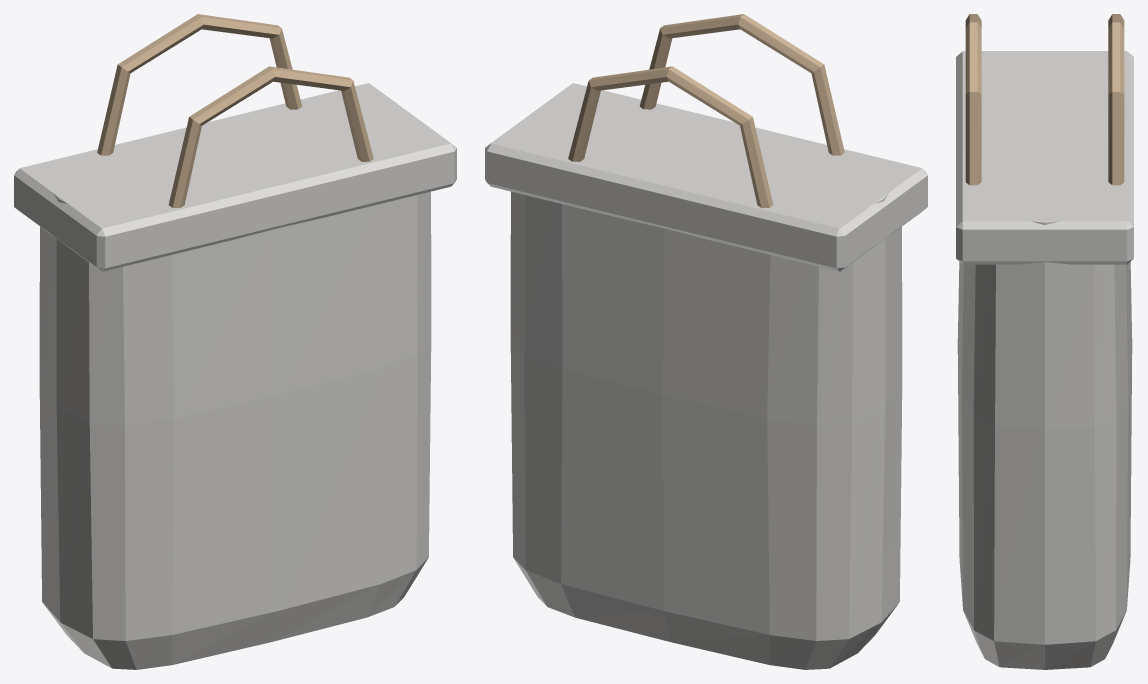
The picture shows the model from 3 angles, left to right: view 1: azimuth 30°, elevation 25°; view 2: azimuth 150°, elevation 25°; view 3: azimuth 270°, elevation 25°; orthographic projection.
Visible parts, largest first — view 1: shopping-bag-paper; view 2: shopping-bag-paper; view 3: shopping-bag-paper.
Boxes of the visible parts, x1,y1,x2,y2 form: shopping-bag-paper: [14, 14, 456, 669]; shopping-bag-paper: [485, 14, 927, 669]; shopping-bag-paper: [956, 14, 1133, 669].
Bounding box in the file's own units: 0.262 × 0.3993 × 0.112.
